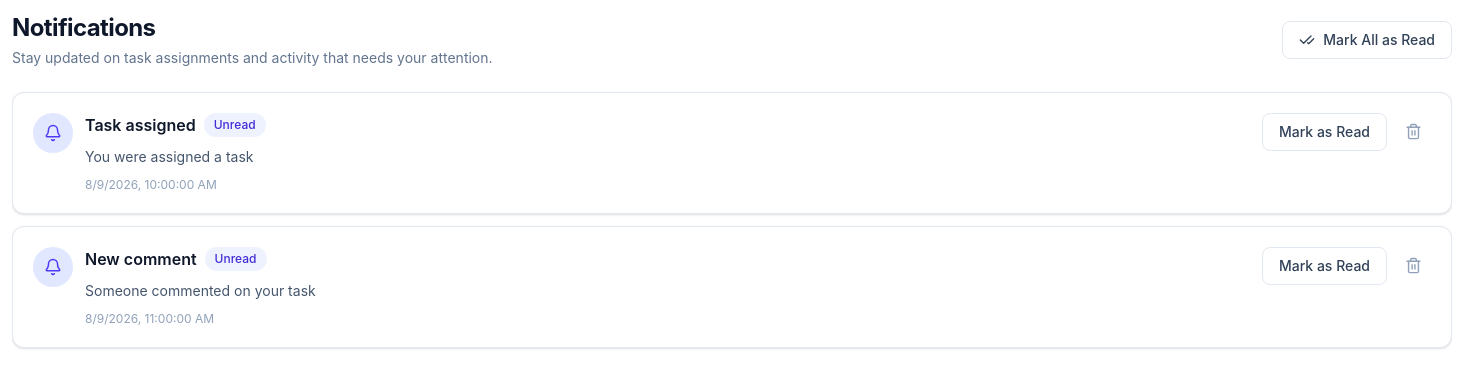
it: NotificationsPage › should mark all notifications as read
Expected: the heading "Task assigned" is shown, [85, 113, 196, 137]
Click the button "Mark All as Read": (1367, 40) [1282, 21, 1452, 59]
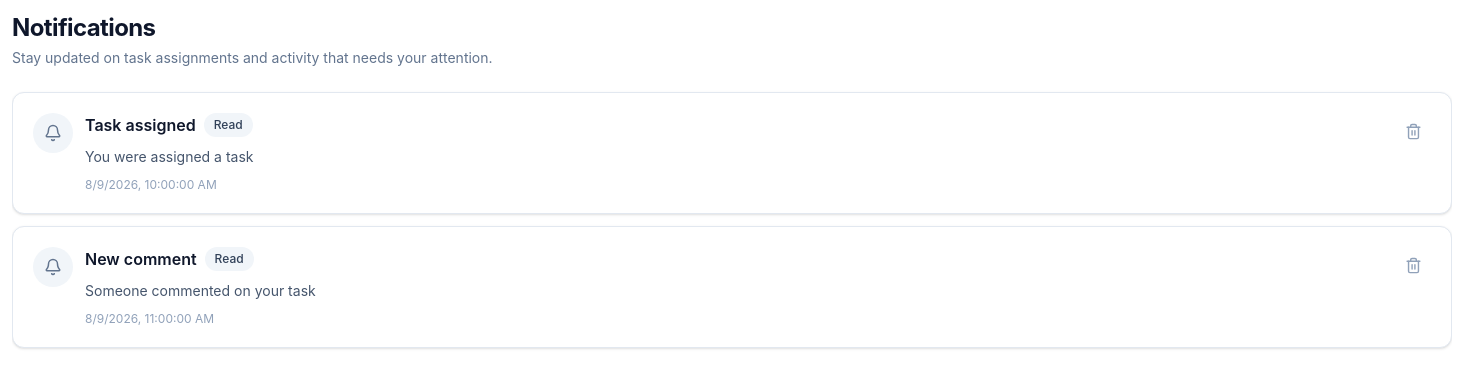
Expected: the button "Mark All as Read" is gone
